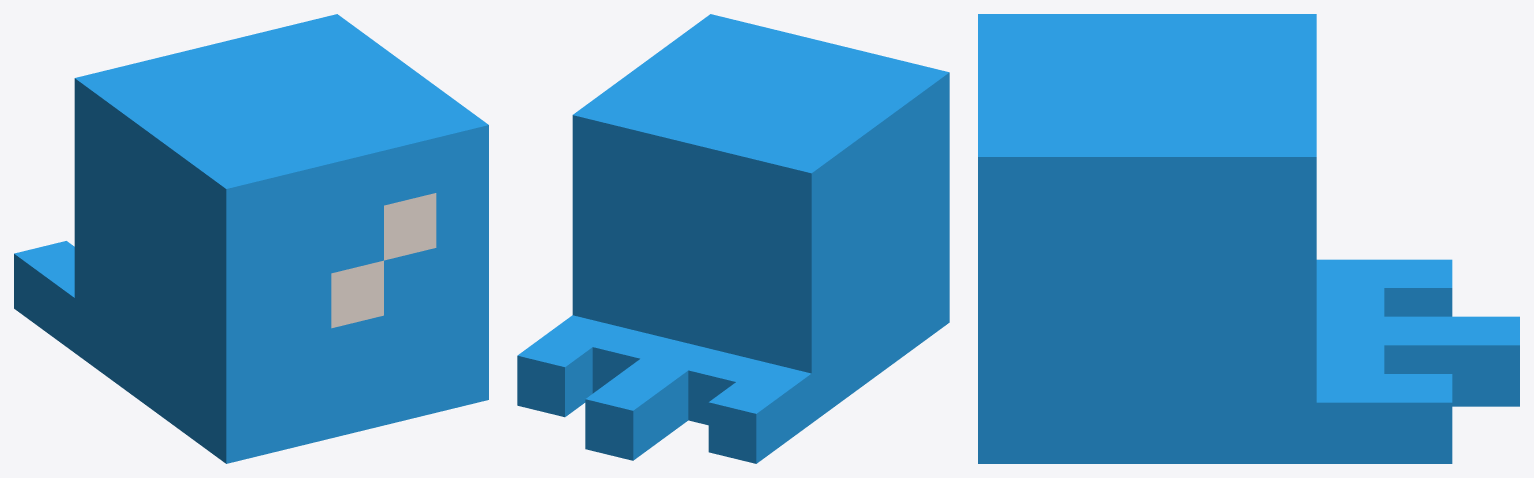
File: blob_b.obj
The picture shows the model from 3 angles, left to right: view 1: azimuth 30°, elevation 25°; view 2: azimuth 150°, elevation 25°; view 3: azimuth 270°, elevation 25°; orthographic projection. The views are drawn at different scales.
Bounding box in the file's own units: 0.5 × 0.5 × 0.8.
1 material, 1 textured.
